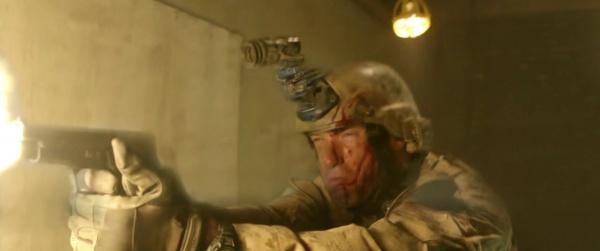Gun: (11, 121, 159, 194)
